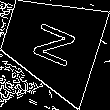N_W: (25, 16, 78, 71)
